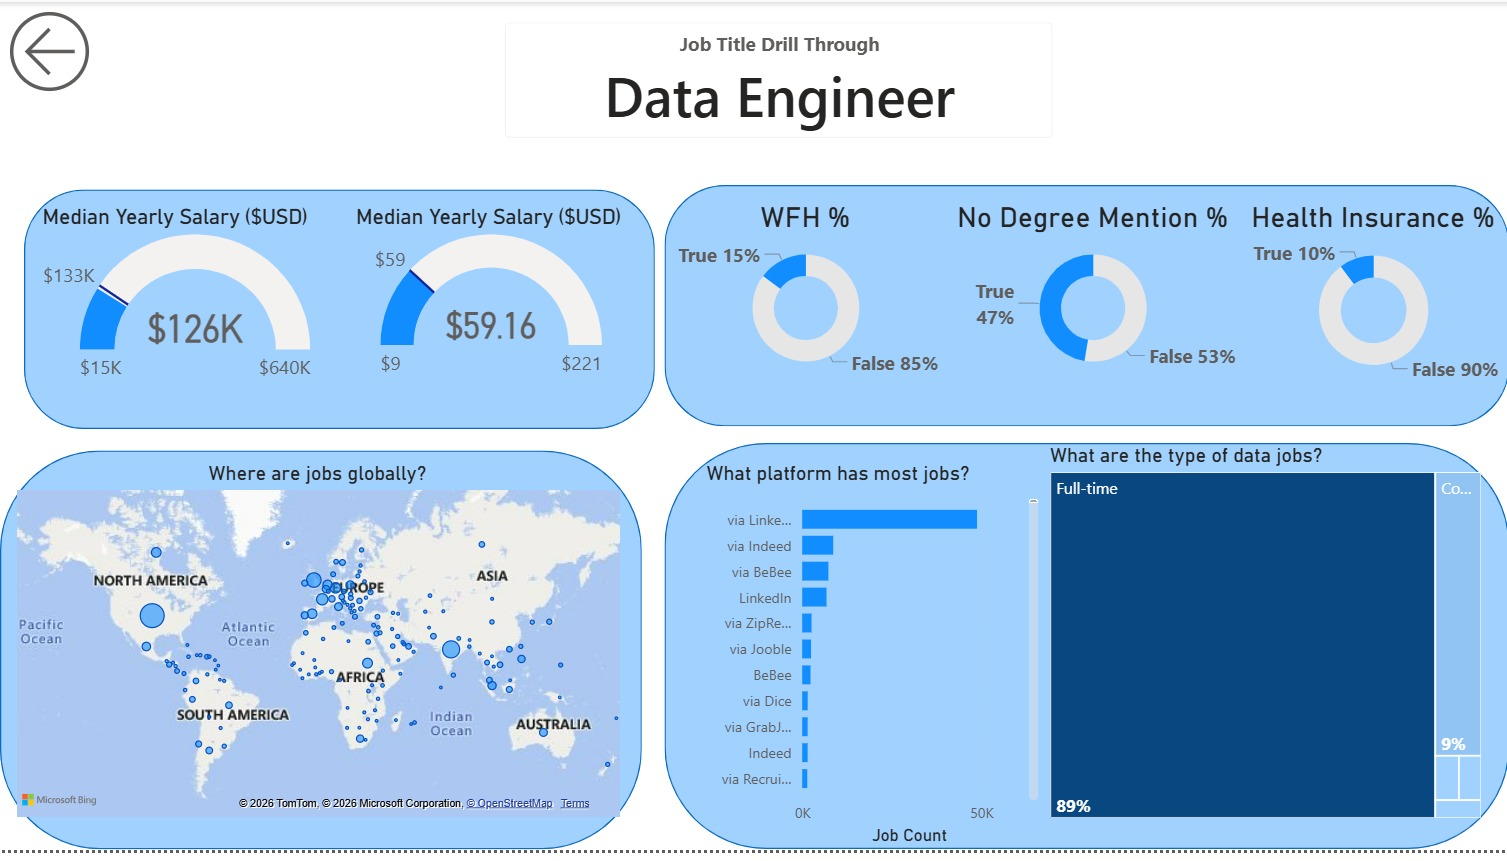

The dashboard page shown, as its layout file describes it:
{"tool":"powerbi","page":{"name":"Job Title Drill Through","canvas":[1280,720],"ordinal":1},"visuals":[{"type":"group","id":"g1","title":"Background","box":[0,155.2,1280.5,563.4],"z":500},{"type":"cardVisual","fields":{"Data":["Min(job_postings_flat.job_title_short)"]},"box":[411.2,0,499.1,132.4],"z":1000},{"type":"gauge","title":"Median Yearly Salary ($USD)","fields":{"MinValue":["Min(job_postings_flat.salary_year_avg)1"],"MaxValue":["Max(job_postings_flat.salary_year_avg)2"],"TargetValue":["Avg(job_postings_flat.salary_year_avg)3"],"Y":["Median(job_postings_flat.salary_year_avg)"]},"box":[8.9,171.9,278.8,159.2],"z":3000},{"type":"gauge","title":"Median Yearly Salary ($USD)","fields":{"Y":["Median(job_postings_flat.salary_hour_avg)"],"MinValue":["Min(job_postings_flat.salary_hour_avg)"],"MaxValue":["Max(job_postings_flat.salary_hour_avg)"],"TargetValue":["Median(job_postings_flat.salary_hour_avg)"]},"box":[287.7,171.9,253.4,155.3],"z":5000},{"type":"map","title":"Where are jobs globally?","fields":{"Category":["job_postings_flat.job_country"],"Size":["CountNonNull(job_postings_flat.job_title_short)"]},"box":[9.3,389.6,521.5,307.3],"z":7000},{"type":"donutChart","title":"Health Insurance %","fields":{"Category":["job_postings_flat.job_health_insurance"],"Y":["CountNonNull(job_postings_flat.job_work_from_home)"]},"box":[1051.7,168.1,227.9,159.2],"z":12000},{"type":"donutChart","title":"No Degree Mention %","fields":{"Category":["job_postings_flat.job_no_degree_mention"],"Y":["CountNonNull(job_postings_flat.job_work_from_home)"]},"box":[803.4,168.1,248.3,155.3],"z":12250},{"type":"donutChart","title":"WFH %","fields":{"Category":["job_postings_flat.job_work_from_home"],"Y":["CountNonNull(job_postings_flat.job_work_from_home)"]},"box":[564,168.1,239.4,155.3],"z":12500},{"type":"treemap","title":"What are the type of data jobs?","fields":{"Group":["job_postings_flat.job_schedule_type"],"Values":["CountNonNull(job_postings_flat.job_schedule_type)"]},"box":[886.3,374.1,375.6,322.8],"z":13000},{"type":"barChart","title":"What platform has most jobs?","fields":{"Category":["job_postings_flat.job_via"],"Y":["CountNonNull(job_postings_flat.job_title_short)"]},"box":[594.7,389,291.4,329.7],"z":14000},{"type":"actionButton","box":[0,0,101.9,84],"z":15000},{"type":"shape","box":[20.2,159.5,535.5,203.3],"z":15250,"group":"g1"},{"type":"shape","box":[563.4,374.1,717.1,344.6],"z":15312,"group":"g1"},{"type":"shape","box":[563.4,155.2,717.1,204.9],"z":15375,"group":"g1"},{"type":"shape","box":[0,379.9,544.8,338.4],"z":15500,"group":"g1"}]}

Visuals, with their boxes in screenshot pixels (x1, y1, x2, y2), scaled from the page's 1280x720 canvas onto the 1507x861 screenshot:
"Background" group: l=0, t=186, r=1506, b=859
cardVisual - Min(job_postings_flat.job_title_short): l=484, t=0, r=1072, b=158
"Median Yearly Salary ($USD)" gauge: l=10, t=206, r=339, b=396
"Median Yearly Salary ($USD)" gauge: l=339, t=206, r=637, b=391
"Where are jobs globally?" map: l=11, t=466, r=625, b=833
"Health Insurance %" donutChart: l=1238, t=201, r=1506, b=391
"No Degree Mention %" donutChart: l=946, t=201, r=1238, b=387
"WFH %" donutChart: l=664, t=201, r=946, b=387
"What are the type of data jobs?" treemap: l=1043, t=447, r=1486, b=833
"What platform has most jobs?" barChart: l=700, t=465, r=1043, b=859
actionButton: l=0, t=0, r=120, b=100
shape: l=24, t=191, r=654, b=434
shape: l=663, t=447, r=1506, b=859
shape: l=663, t=186, r=1506, b=431
shape: l=0, t=454, r=641, b=859
